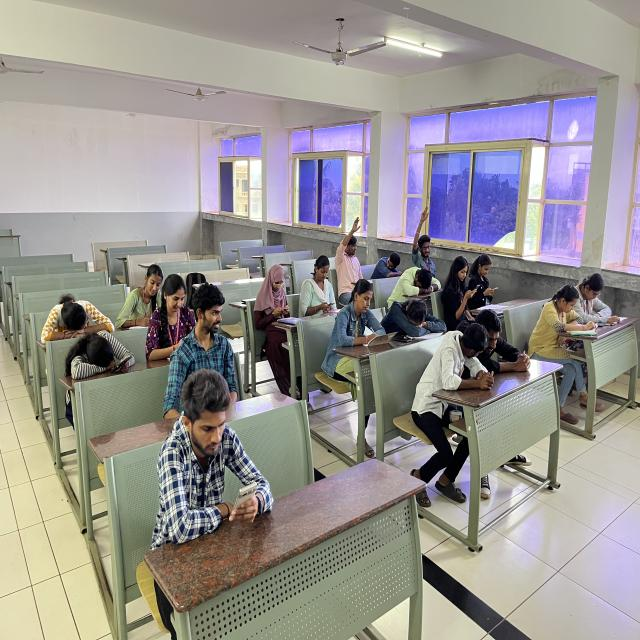Hand Rising: (333, 212, 375, 287), (405, 198, 445, 273)
Reading: (528, 276, 596, 358), (565, 264, 625, 331)
Sleeping: (63, 328, 142, 384), (36, 291, 118, 341), (382, 298, 449, 345), (384, 262, 443, 306), (369, 249, 411, 288)
Using Phone: (144, 368, 298, 563), (251, 260, 306, 346), (300, 254, 342, 316), (444, 250, 481, 318), (470, 250, 503, 308)
Writing: (321, 277, 391, 360)
